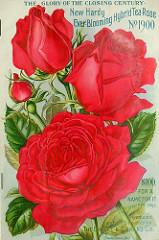Rose: (15, 107, 149, 235), (67, 26, 159, 122), (7, 2, 76, 77)
